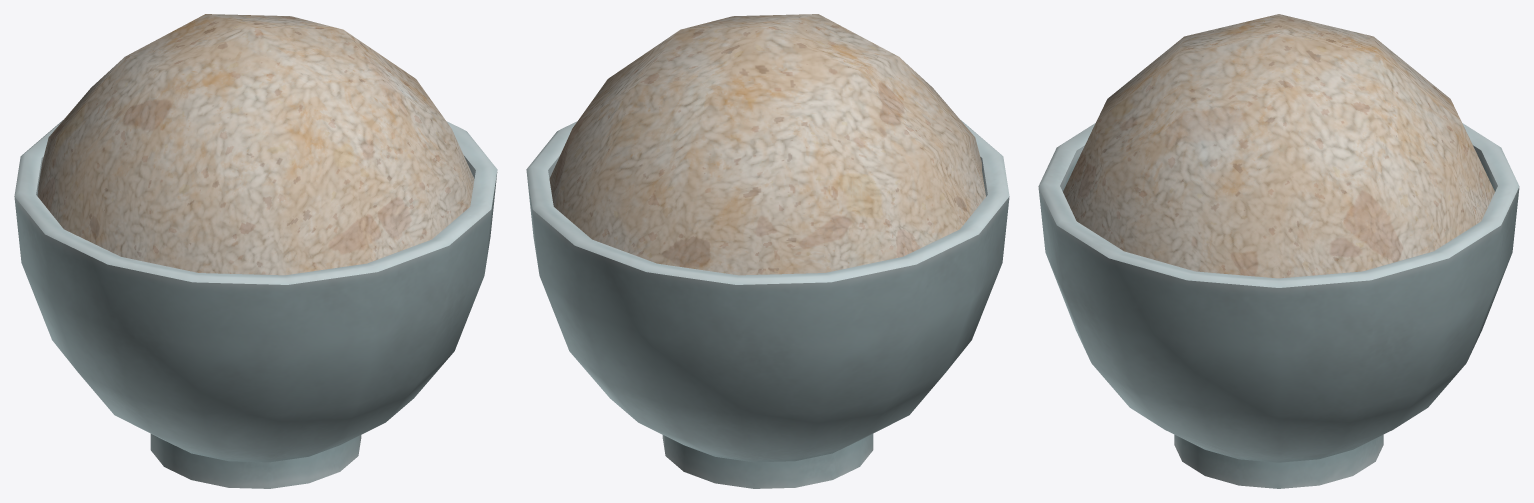
File: rice.glb
3 views of the same model, side by side, from view 1: azimuth 30°, elevation 25°; view 2: azimuth 150°, elevation 25°; view 3: azimuth 270°, elevation 25° (orthographic).
Visible parts, largest first — view 1: SM_Rice, SM_Cooked_Rice_Bowl; view 2: SM_Rice, SM_Cooked_Rice_Bowl; view 3: SM_Rice, SM_Cooked_Rice_Bowl.
Part boxes in pixels (<box>): SM_Rice: <box>37,14,474,275</box>; SM_Cooked_Rice_Bowl: <box>14,120,497,488</box>; SM_Rice: <box>549,14,985,275</box>; SM_Cooked_Rice_Bowl: <box>526,120,1009,488</box>; SM_Rice: <box>1063,14,1494,278</box>; SM_Cooked_Rice_Bowl: <box>1038,123,1519,488</box>.
Size of the model in its own units: 0.1483 by 0.1396 by 0.1483.
2 materials, 2 textured.
